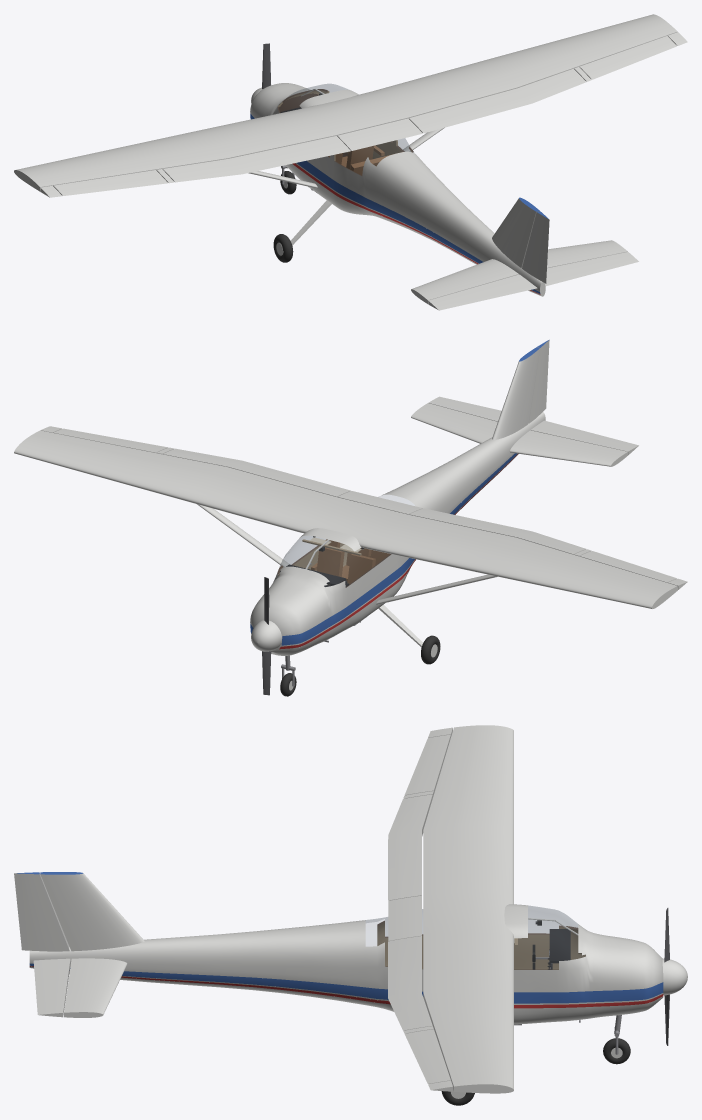
The model's file is cessna.glb.
3 renders of one model, top to bottom at view 1: azimuth 30°, elevation 25°; view 2: azimuth 150°, elevation 25°; view 3: azimuth 270°, elevation 25°, orthographic. The views are drawn at different scales.
Visible parts, largest first — view 1: body, airbrake_right, airbrake_left, elevator, cockpit, aileron_left, aileron_right, rudder, wheel_1; view 2: body, cockpit, elevator, airbrake_right, airbrake_left, rudder, aileron_right, aileron_left, prop; view 3: body, airbrake_left, airbrake_right, rudder, cockpit, elevator, aileron_left, aileron_right.
Part boxes in pixels (x1,y1,x2,y2): body: (14, 14, 687, 303); airbrake_right: (409, 68, 586, 133); airbrake_left: (162, 136, 350, 182); elevator: (428, 252, 638, 310); cockpit: (277, 88, 413, 192); aileron_left: (53, 170, 167, 195); aileron_right: (579, 36, 676, 79); rudder: (522, 211, 549, 283); wheel_1: (273, 234, 293, 262); body: (14, 347, 687, 670); cockpit: (277, 536, 391, 625); elevator: (428, 396, 638, 455); airbrake_right: (163, 448, 350, 496); airbrake_left: (409, 508, 585, 554); rudder: (528, 339, 549, 423); aileron_right: (53, 428, 167, 452); aileron_left: (579, 551, 676, 582); prop: (262, 577, 271, 695); body: (29, 725, 687, 1093); airbrake_left: (388, 794, 432, 900); airbrake_right: (388, 936, 432, 1030); rudder: (14, 872, 69, 951); cockpit: (377, 918, 585, 1025); elevator: (33, 958, 70, 1017); aileron_left: (404, 734, 450, 795); aileron_right: (404, 1029, 450, 1083).
Bounding box in the file's own units: 11 × 2.72 × 8.72.
